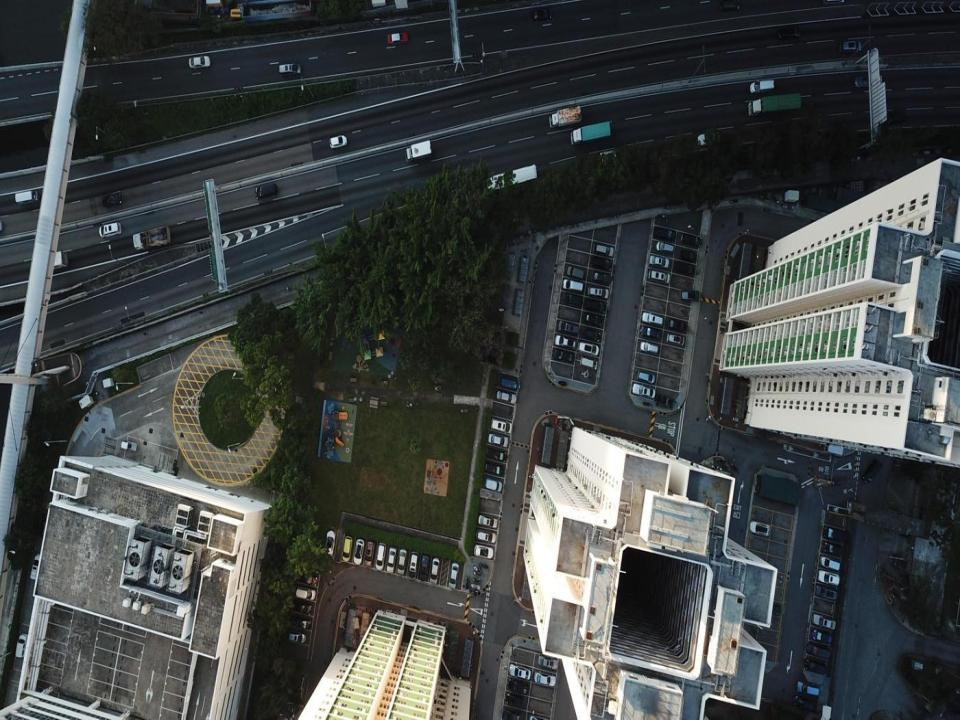car: (509, 663, 533, 681), (823, 526, 847, 544), (807, 642, 832, 659), (862, 460, 882, 481), (794, 693, 817, 711), (677, 231, 701, 248), (640, 322, 661, 341), (254, 183, 276, 201), (508, 676, 530, 694), (98, 222, 121, 239), (817, 570, 840, 587), (796, 679, 819, 696), (804, 658, 830, 673), (496, 376, 520, 392), (812, 614, 836, 630), (811, 629, 835, 644), (589, 269, 610, 286), (584, 297, 606, 313), (697, 134, 722, 148), (534, 671, 557, 686), (823, 541, 841, 560), (650, 253, 670, 270), (488, 432, 509, 448), (497, 389, 518, 405), (102, 192, 124, 207), (485, 448, 507, 463), (555, 334, 577, 349), (582, 313, 604, 328), (665, 317, 687, 332), (814, 586, 839, 599), (632, 384, 655, 398), (593, 243, 614, 258), (31, 554, 43, 580), (854, 74, 878, 87), (407, 551, 418, 579), (448, 561, 459, 589), (558, 321, 580, 335), (579, 328, 601, 342), (588, 286, 610, 300), (648, 270, 670, 284), (674, 247, 696, 261), (476, 528, 496, 543), (538, 654, 558, 669), (750, 521, 770, 536), (562, 292, 582, 307), (652, 227, 675, 240), (279, 62, 300, 76), (579, 340, 600, 354), (298, 572, 320, 585), (353, 539, 364, 565), (429, 557, 440, 583), (491, 419, 513, 432), (553, 351, 575, 364), (679, 290, 701, 303), (398, 548, 408, 576), (474, 545, 494, 559), (637, 370, 657, 384), (777, 28, 800, 40), (189, 55, 210, 68), (329, 135, 347, 150), (386, 546, 396, 573), (484, 477, 502, 492), (673, 263, 695, 275), (292, 602, 312, 615), (420, 555, 430, 581), (478, 515, 498, 528), (504, 695, 524, 708), (486, 463, 504, 477), (666, 332, 684, 346), (656, 241, 674, 255), (820, 557, 839, 570), (376, 541, 384, 570), (388, 33, 408, 44), (326, 530, 334, 557), (640, 342, 658, 354), (343, 536, 351, 562), (366, 541, 374, 566), (289, 633, 307, 644), (292, 618, 311, 628), (502, 713, 523, 719)
truck: (479, 165, 537, 193), (748, 93, 801, 117), (570, 122, 611, 146), (132, 226, 170, 251), (549, 104, 581, 129), (405, 140, 431, 162)
van: (491, 403, 516, 418), (750, 79, 774, 94), (15, 190, 38, 204), (840, 39, 863, 53), (15, 633, 27, 659), (562, 279, 585, 292), (591, 257, 612, 270), (565, 267, 584, 281), (642, 312, 663, 324), (580, 357, 599, 369), (296, 590, 316, 600)
